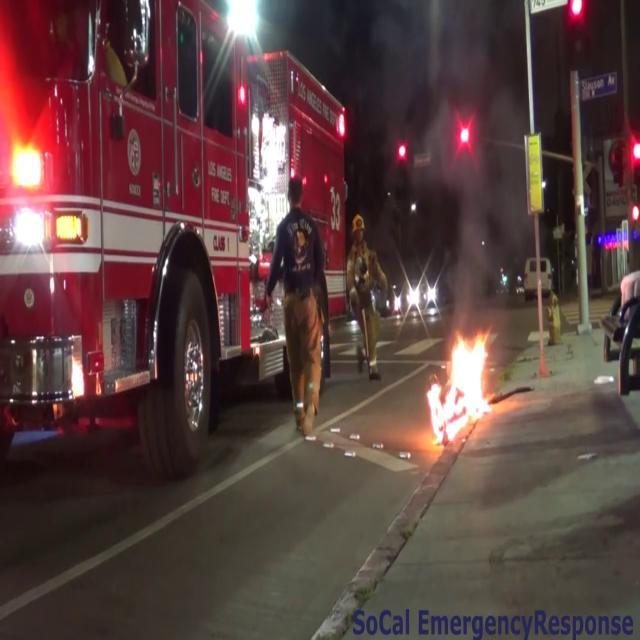Fire: (423, 326, 493, 445)
Smoke: (444, 8, 528, 320)
